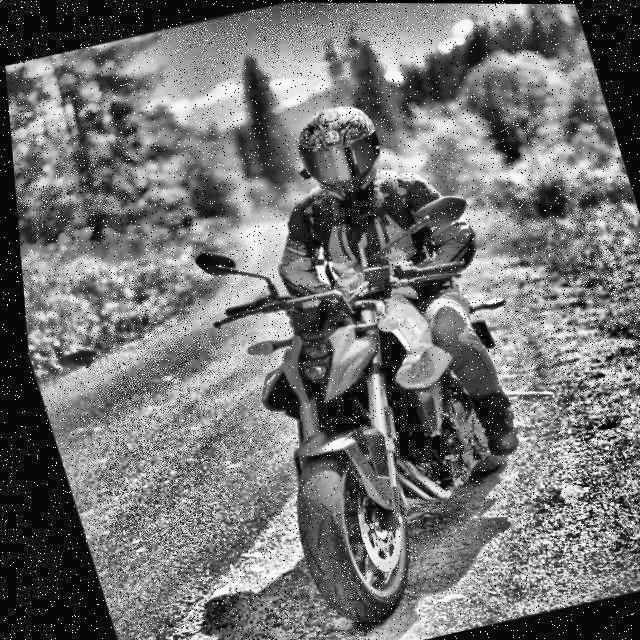Helmet: (277, 92, 397, 209)
